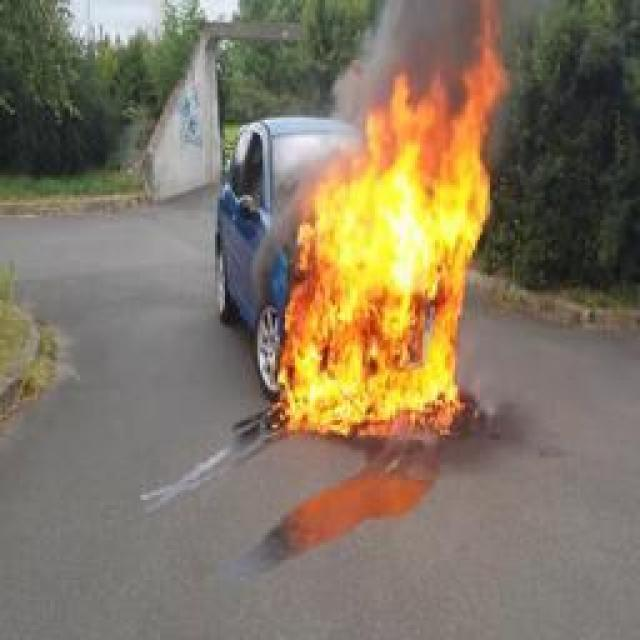Fire: (282, 0, 506, 428)
